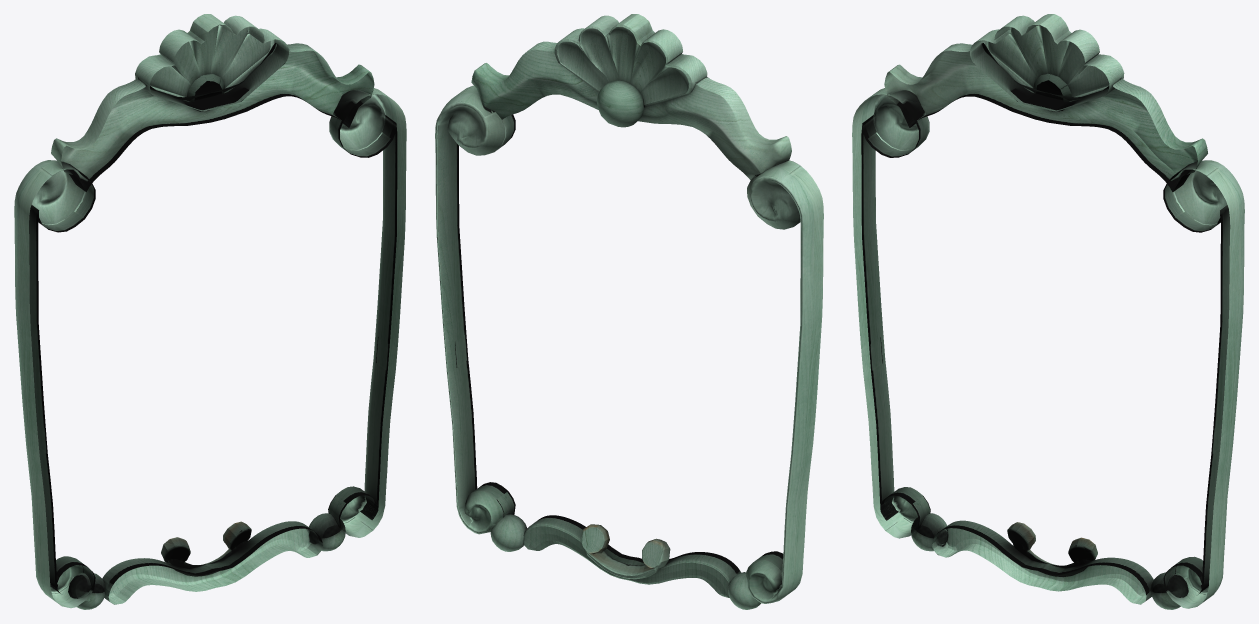
Rendered from wooden_mirror_2.obj.
The picture shows the model from 3 angles, left to right: view 1: azimuth 30°, elevation 25°; view 2: azimuth 150°, elevation 25°; view 3: azimuth 330°, elevation 25°; orthographic projection.
Parts seen in each view (by area): view 1: group2 polySurface29 polySurface1, group2 polySurface36 polySurface1, group2 polySurface34 polySurface1, group2 polySurface28 polySurface1, group2 polySurface5 polySurface1, group2 polySurface31 polySurface1, group2 polySurface39 polySurface1, group2 polySurface40 polySurface1; view 2: group2 polySurface29 polySurface1, group2 polySurface36 polySurface1, group2 polySurface34 polySurface1, group2 polySurface28 polySurface1, group2 polySurface5 polySurface1, group2 polySurface31 polySurface1, group2 polySurface2 polySurface1, group2 polySurface39 polySurface1, group2 polySurface40 polySurface1; view 3: group2 polySurface36 polySurface1, group2 polySurface29 polySurface1, group2 polySurface34 polySurface1, group2 polySurface28 polySurface1, group2 polySurface5 polySurface1, group2 polySurface31 polySurface1, group2 polySurface40 polySurface1, group2 polySurface39 polySurface1.
Boxes of the visible parts, <box> form: group2 polySurface29 polySurface1: <box>328,88,406,537</box>; group2 polySurface36 polySurface1: <box>14,160,95,608</box>; group2 polySurface34 polySurface1: <box>51,43,374,191</box>; group2 polySurface28 polySurface1: <box>135,14,289,111</box>; group2 polySurface5 polySurface1: <box>102,521,322,604</box>; group2 polySurface31 polySurface1: <box>161,521,251,576</box>; group2 polySurface39 polySurface1: <box>309,513,345,551</box>; group2 polySurface40 polySurface1: <box>68,573,105,609</box>; group2 polySurface29 polySurface1: <box>435,85,515,534</box>; group2 polySurface36 polySurface1: <box>746,160,823,603</box>; group2 polySurface34 polySurface1: <box>471,41,791,180</box>; group2 polySurface28 polySurface1: <box>554,14,707,107</box>; group2 polySurface5 polySurface1: <box>523,515,741,597</box>; group2 polySurface31 polySurface1: <box>580,524,670,579</box>; group2 polySurface2 polySurface1: <box>597,80,643,127</box>; group2 polySurface39 polySurface1: <box>490,514,527,551</box>; group2 polySurface40 polySurface1: <box>728,572,760,609</box>; group2 polySurface36 polySurface1: <box>852,88,930,538</box>; group2 polySurface29 polySurface1: <box>1163,160,1244,608</box>; group2 polySurface34 polySurface1: <box>884,43,1207,191</box>; group2 polySurface28 polySurface1: <box>970,14,1124,111</box>; group2 polySurface5 polySurface1: <box>932,520,1153,604</box>; group2 polySurface31 polySurface1: <box>1007,522,1097,577</box>; group2 polySurface40 polySurface1: <box>911,513,947,551</box>; group2 polySurface39 polySurface1: <box>1151,572,1188,609</box>.
Size of the model in its own units: 4.38 by 6.24 by 0.5946.
